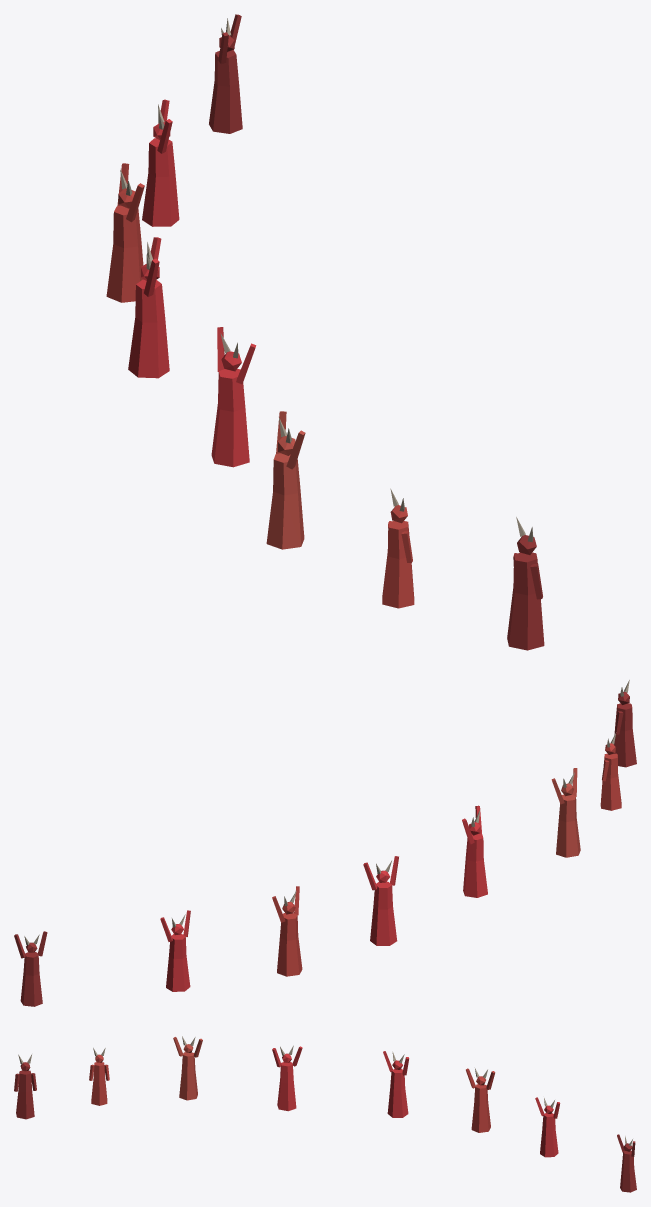
Rendered from Stands_4_0_2.obj.
The picture shows the model from 3 angles, top to bottom: view 1: azimuth 30°, elevation 25°; view 2: azimuth 150°, elevation 25°; view 3: azimuth 270°, elevation 25°; orthographic projection. The views are drawn at different scales.
Visible parts, largest first — view 1: Stands_4_0_2; view 2: Stands_4_0_2; view 3: Stands_4_0_2.
Boxes of the visible parts, x1,y1,x2,y2 form: Stands_4_0_2: (106,14,544,650); Stands_4_0_2: (14,680,636,1006); Stands_4_0_2: (14,1036,636,1192).
Bounding box in the file's own units: 12.87 × 3.62 × 33.22.
Materials: 1 (1 with a texture image).
